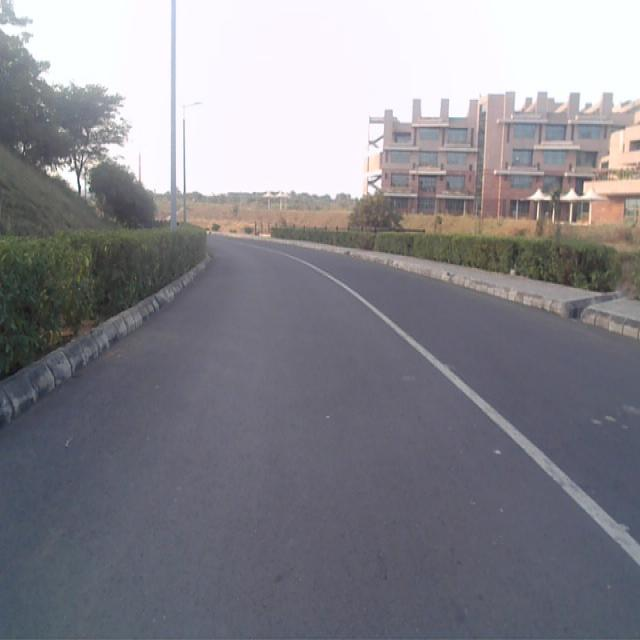lane: (0, 250, 640, 640)
